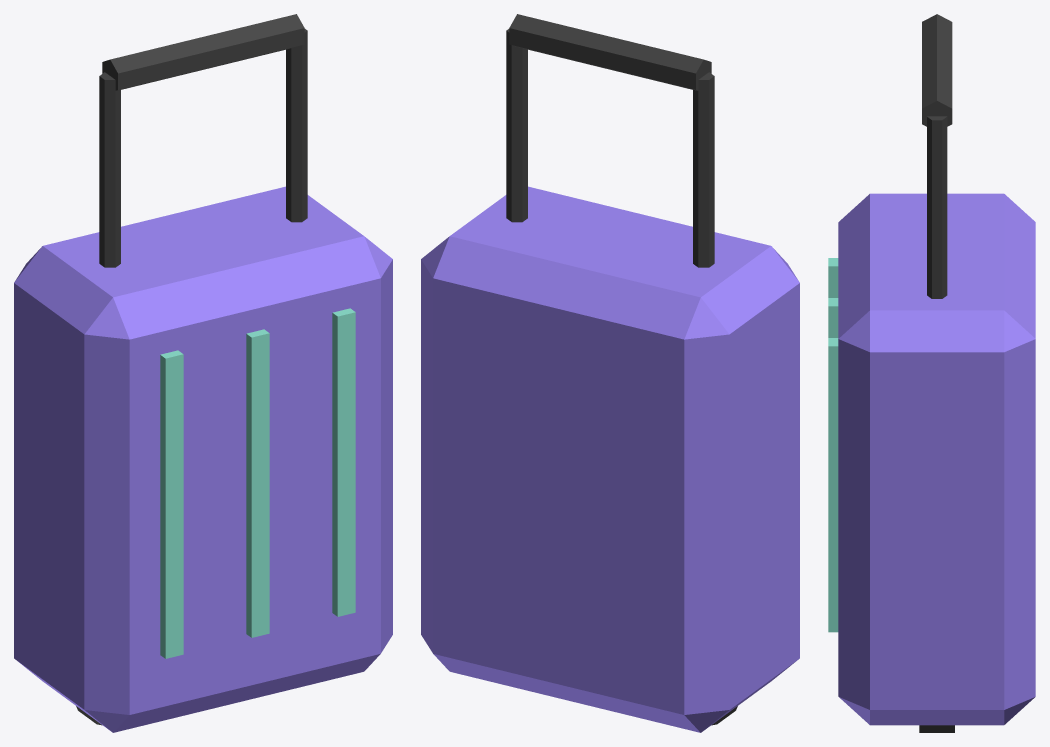
3 views of the same model, side by side, from view 1: azimuth 30°, elevation 25°; view 2: azimuth 150°, elevation 25°; view 3: azimuth 270°, elevation 25° (orthographic). The views are drawn at different scales.
Visible parts, largest first — view 1: Shell, Raised rib, Raised rib.001, Raised rib.002, Grip, Handle rail, Handle rail.001; view 2: Shell, Grip, Handle rail, Handle rail.001; view 3: Shell, Handle rail.001, Raised rib.002, Grip, Raised rib, Raised rib.001.
Part boxes in pixels (<box>): Shell: <box>14,186,392,732</box>; Raised rib: <box>160,350,183,658</box>; Raised rib.001: <box>246,329,269,637</box>; Raised rib.002: <box>332,308,355,616</box>; Grip: <box>102,14,304,90</box>; Handle rail: <box>99,72,120,267</box>; Handle rail.001: <box>286,29,307,222</box>; Shell: <box>421,186,799,732</box>; Grip: <box>509,14,711,90</box>; Handle rail: <box>693,72,714,267</box>; Handle rail.001: <box>506,29,527,222</box>; Shell: <box>838,193,1035,725</box>; Handle rail.001: <box>927,116,947,298</box>; Raised rib.002: <box>828,338,838,632</box>; Grip: <box>922,14,952,126</box>; Raised rib: <box>828,258,838,297</box>; Raised rib.001: <box>828,298,838,337</box>.
Size of the model in its own units: 0.43 by 0.882 by 0.263.
1 material, 1 textured.
